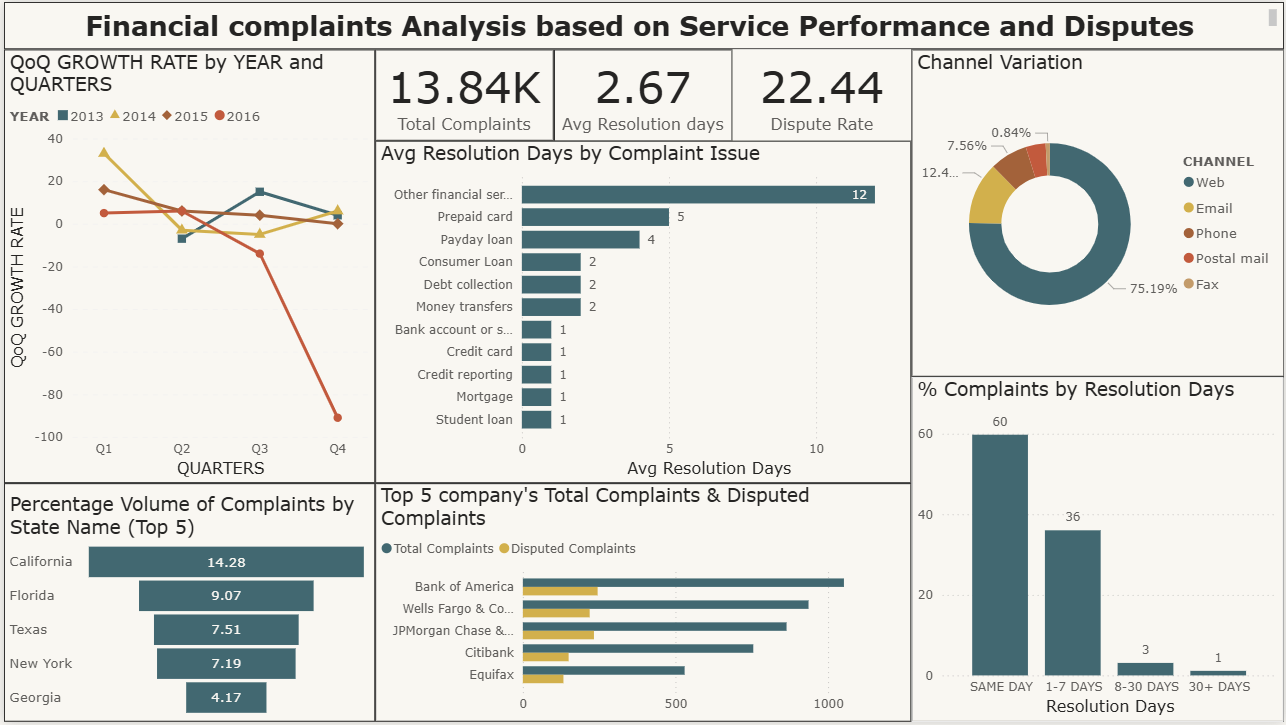

This screenshot's page, from the dashboard's own definition file:
{"tool":"powerbi","page":{"name":"Page 2","canvas":[1280,720],"ordinal":0},"visuals":[{"type":"textbox","box":[0,0,1280,47.5],"z":0},{"type":"card","fields":{"Values":["CountNonNull(Query10.Complaint ID)"]},"box":[371.8,47.7,178.6,91.4],"z":1},{"type":"card","fields":{"Values":["Avg(Query9.RESOLUTION_DAYS)"]},"box":[550.3,47.7,178.5,91.7],"z":2},{"type":"card","fields":{"Values":["Sum(Query11.DISPUTED_COMPLAINTS)"]},"box":[728.8,47.7,178.5,91.7],"z":3},{"type":"barChart","fields":{"Category":["Query9.PRODUCT"],"Y":["Sum(Query9.RESOLUTION_DAYS)"]},"box":[371.3,138.7,536,342.7],"z":4},{"type":"lineChart","title":"QoQ GROWTH RATE by YEAR and QUARTERS","fields":{"Category":["Query4.QUARTERS"],"Y":["Sum(Query4.QoQ_GROWTH_RATE)"],"Series":["Query4.YEAR"]},"box":[0,47.5,371.2,433.8],"z":5},{"type":"clusteredBarChart","title":"Top 5 company''s Total Complaints & Disputed Complaints","fields":{"Category":["Query3.Company"],"Y":["Sum(Query3.TOT_COMPLAINTS)","Sum(Query3.DISPUTED_COMPLAINTS)"]},"box":[371.2,481.2,536.2,238.8],"z":6},{"type":"columnChart","title":"% Complaints by Resolution Days","fields":{"Category":["Query5.RES_DAYS_BUCKET"],"Y":["Sum(Query5.PERC_TOT_COMPLAINTS)"]},"box":[907.5,375,372.5,345],"z":7},{"type":"funnel","fields":{"Category":["Query6.State_Name"],"Y":["Sum(Query6.PERC_VOLUME)"]},"box":[0,481.2,371.2,238.8],"z":8},{"type":"donutChart","title":"Channel Variation","fields":{"Category":["Query2.CHANNEL"],"Y":["Divide(Sum(Query2.COMPLAINT_PERC), ScopedEval(Sum(Query2.COMPLAINT_PERC), []))"]},"box":[907.5,47.5,372.5,327.5],"z":9}]}

Visuals, with their boxes in screenshot pixels (x1, y1, x2, y2), scaled from the page's 1280x720 canvas onto the 1286x725 screenshot:
textbox: (left=0, top=0, right=1285, bottom=48)
card - CountNonNull(Query10.Complaint ID): (left=374, top=48, right=553, bottom=140)
card - Avg(Query9.RESOLUTION_DAYS): (left=553, top=48, right=732, bottom=140)
card - Sum(Query11.DISPUTED_COMPLAINTS): (left=732, top=48, right=912, bottom=140)
barChart - Query9.PRODUCT x Sum(Query9.RESOLUTION_DAYS): (left=373, top=140, right=912, bottom=485)
"QoQ GROWTH RATE by YEAR and QUARTERS" lineChart: (left=0, top=48, right=373, bottom=485)
"Top 5 company''s Total Complaints & Disputed Complaints" clusteredBarChart: (left=373, top=485, right=912, bottom=724)
"% Complaints by Resolution Days" columnChart: (left=912, top=378, right=1285, bottom=724)
funnel - Query6.State_Name x Sum(Query6.PERC_VOLUME): (left=0, top=485, right=373, bottom=724)
"Channel Variation" donutChart: (left=912, top=48, right=1285, bottom=378)
